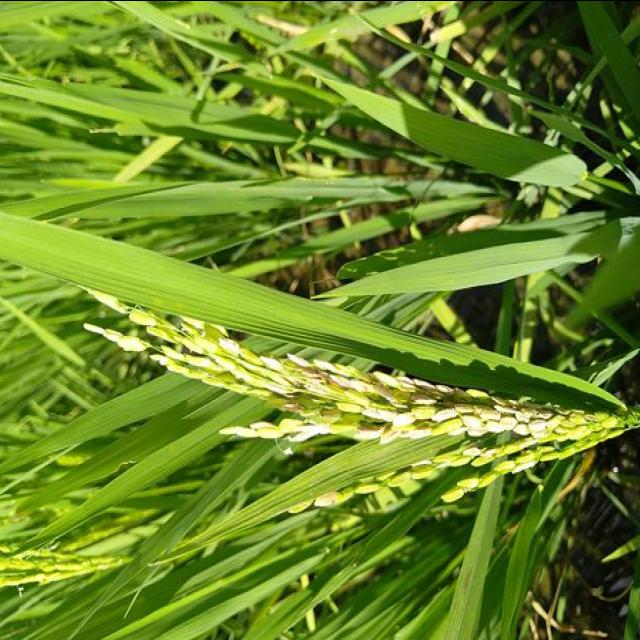Panicle Blight: (85, 300, 614, 440), (315, 444, 505, 505), (493, 440, 577, 473)
